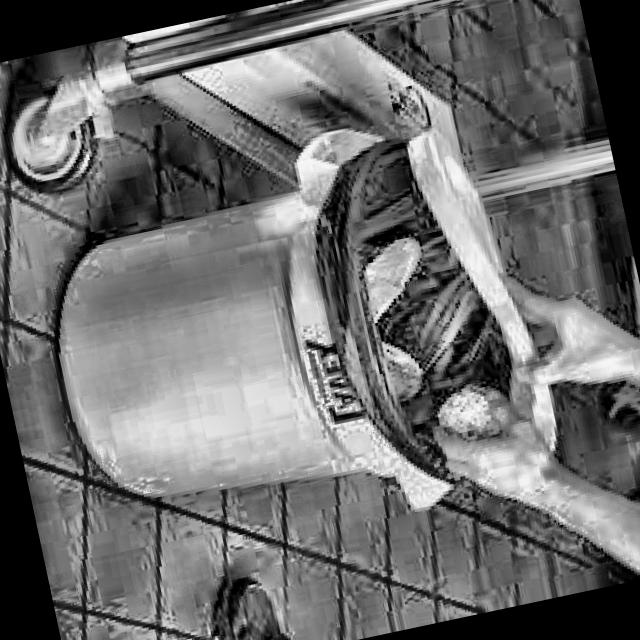Dustbin: (12, 101, 557, 576)
